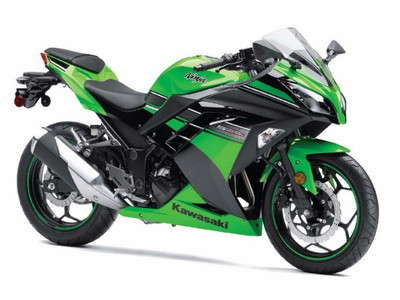motorcycle: (15, 32, 380, 275)
